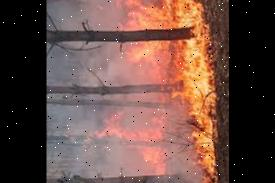fire: (102, 0, 224, 183)
